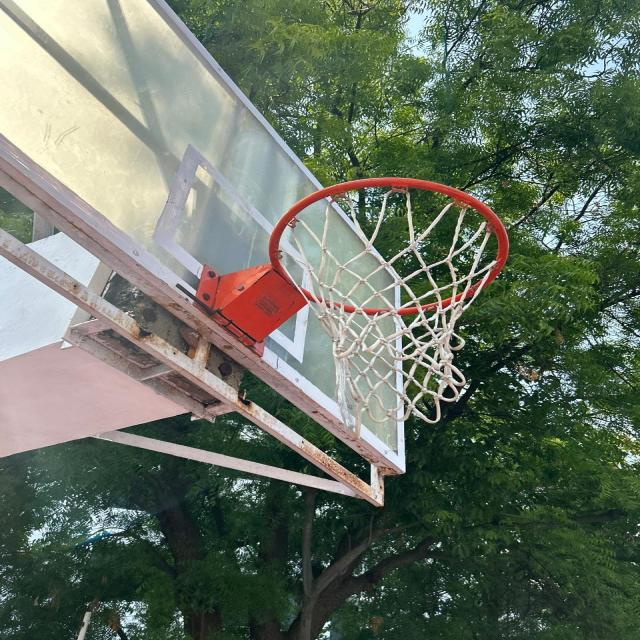hoop: (205, 157, 517, 456)
